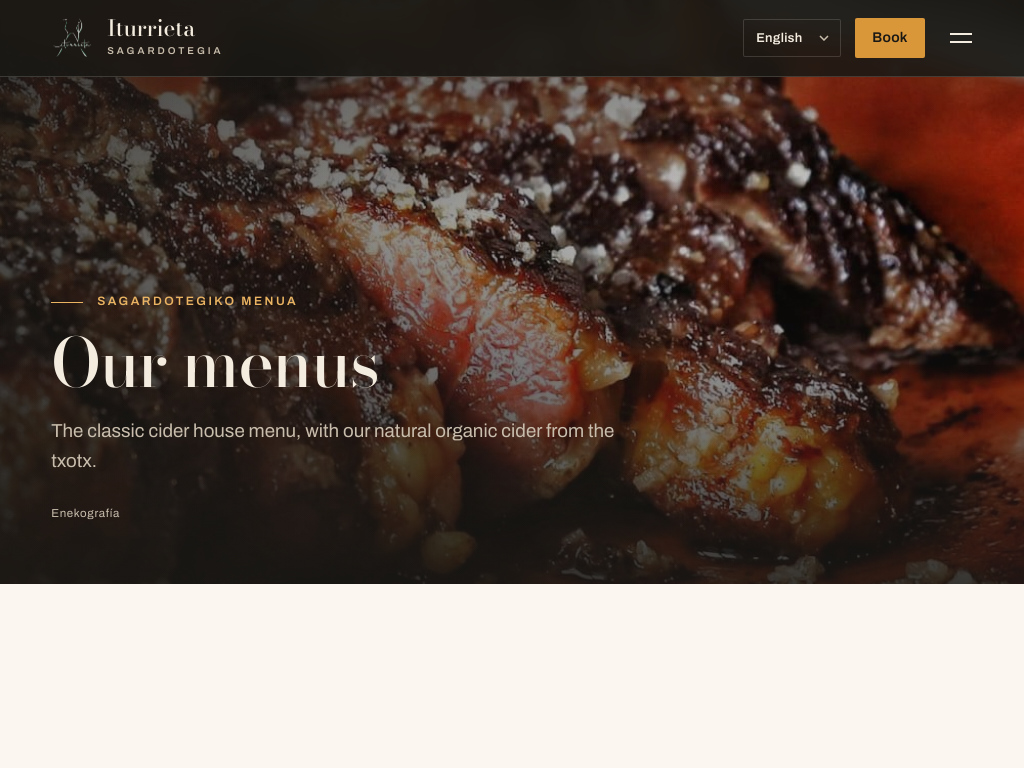
Test case: interior page content › switches an interior page to Basque and keeps the route
The image size is (1024, 768).
Step 1. Select "Euskara" in the dropdown → (792, 38), box [743,19,841,57]
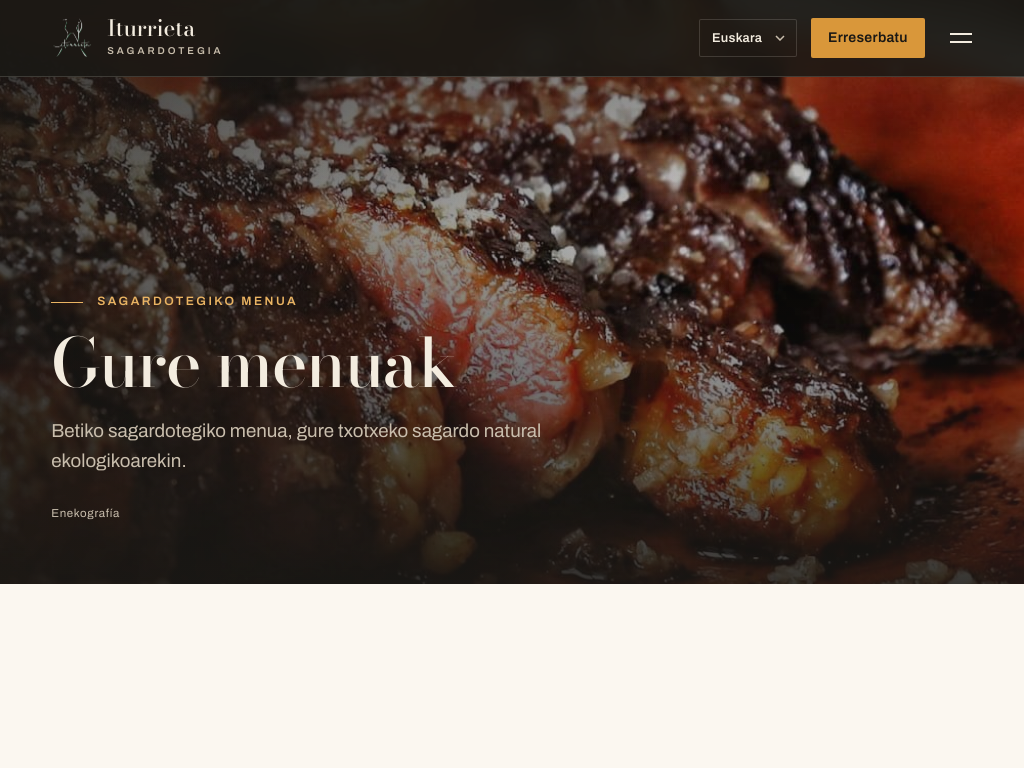
Expected: the heading reads "Gure menuak", [51,311,457,414]
